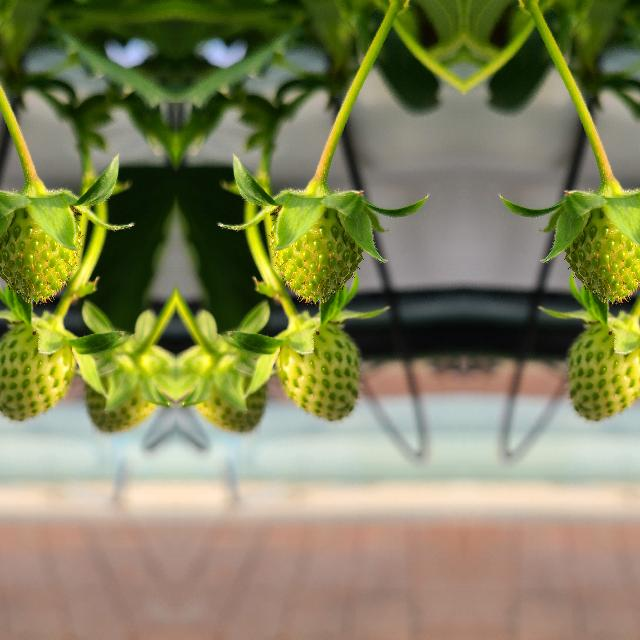Health_25: (270, 205, 362, 301), (0, 205, 79, 301), (564, 205, 640, 301)
